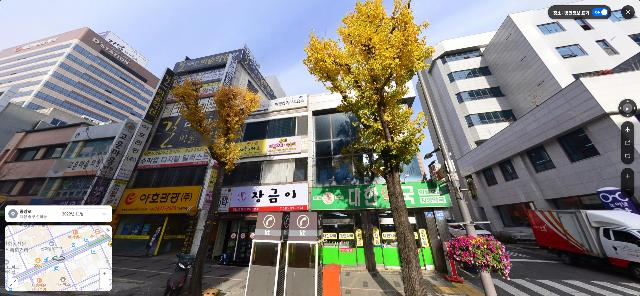ginkgo: (303, 0, 435, 296), (171, 70, 267, 296)
